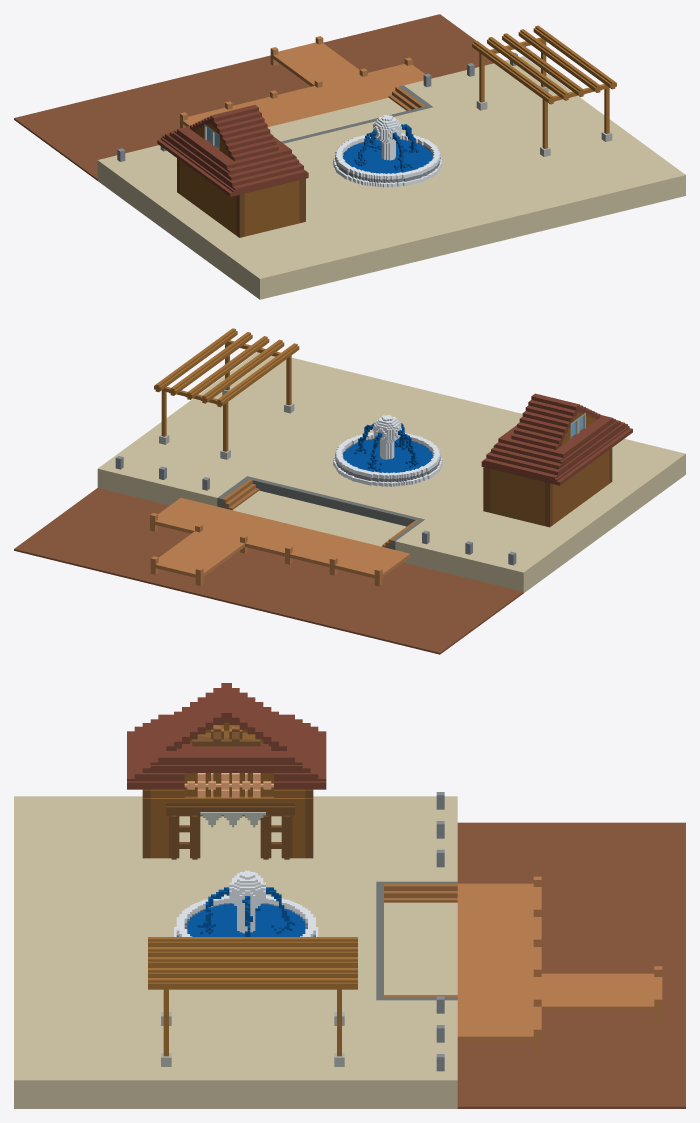
Rendered from background_portTown.glb.
3 views of the same model, one above another, from view 1: azimuth 30°, elevation 25°; view 2: azimuth 150°, elevation 25°; view 3: azimuth 270°, elevation 25° (orthographic). The views are drawn at different scales.
Visible parts, largest first — view 1: Node; view 2: Node; view 3: Node.
Part boxes in pixels (x1,y1,x2,y2): Node: (14, 14, 685, 299); Node: (14, 328, 685, 654); Node: (14, 683, 685, 1108).
Size of the model in its own units: 25.6 by 6.8 by 25.6.
1 material, 1 textured.
